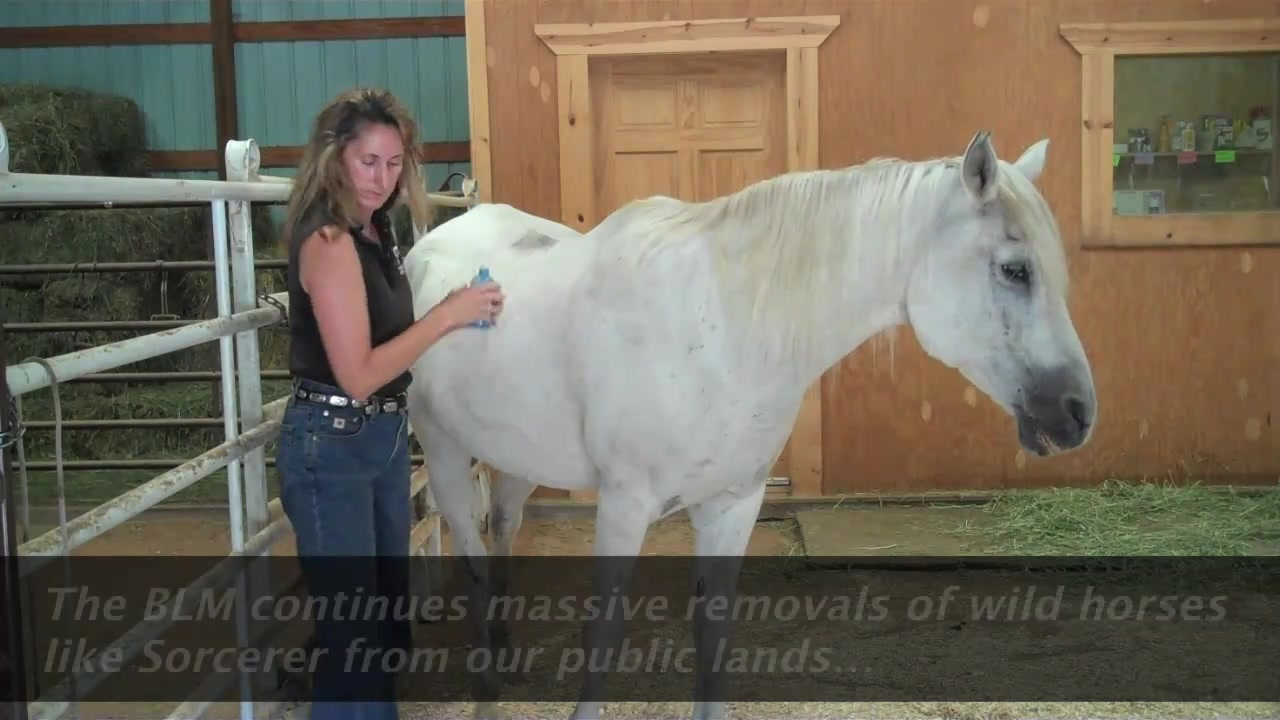horse: (399, 132, 1096, 720)
